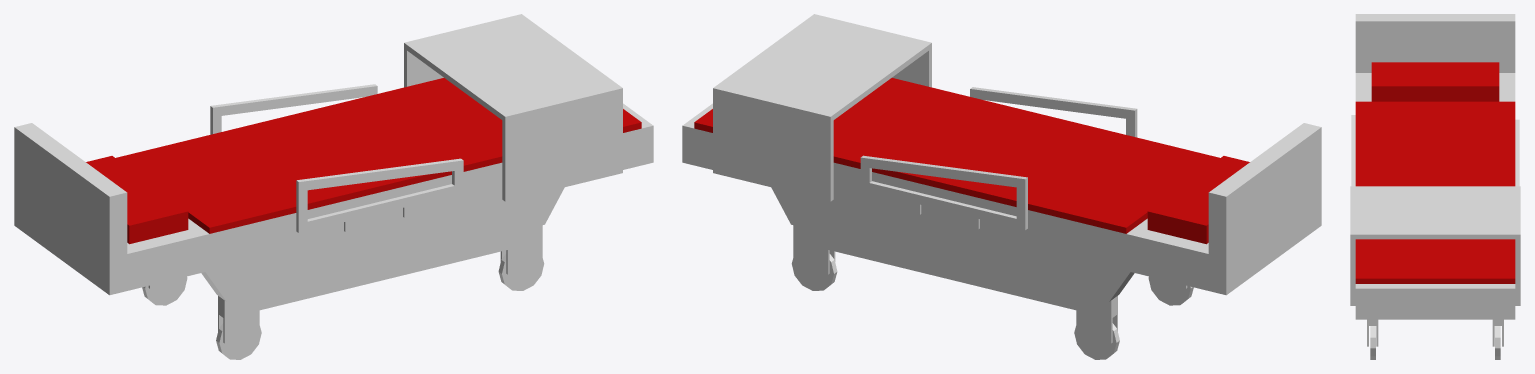
File: camaHospital.fbx
3 renders of one model, left to right at view 1: azimuth 30°, elevation 25°; view 2: azimuth 150°, elevation 25°; view 3: azimuth 270°, elevation 25°, orthographic. The views are drawn at different scales.
Parts seen in each view (by area): view 1: Plane.017, Plane.022, Plane.024, Plane.019, Plane.021, Plane.023, Plane.025, Plane.018, Plane.020; view 2: Plane.017, Plane.022, Plane.024, Plane.019, Plane.021, Plane.023, Plane.025, Plane.018, Plane.020; view 3: Plane.017, Plane.024, Plane.022, Plane.018, Plane.025, Plane.023, Plane.020, Plane.021.
Boxes of the visible parts, x1,y1,x2,y2 form: Plane.017: (116,78,641,233); Plane.022: (404,14,622,201); Plane.024: (14,123,653,295); Plane.019: (201,187,564,301); Plane.021: (148,225,542,343); Plane.023: (210,84,463,232); Plane.025: (127,103,653,272); Plane.018: (86,156,188,244); Plane.020: (142,254,544,359); Plane.017: (694,78,1219,233); Plane.022: (713,14,931,201); Plane.024: (682,123,1321,295); Plane.019: (771,187,1134,301); Plane.021: (793,225,1187,343); Plane.023: (860,87,1137,230); Plane.025: (682,103,1208,272); Plane.018: (1147,156,1249,244); Plane.020: (791,254,1193,359); Plane.017: (1355,101,1515,283); Plane.024: (1355,14,1515,319); Plane.022: (1350,186,1520,305); Plane.018: (1371,62,1499,101); Plane.025: (1355,73,1515,304); Plane.023: (1351,115,1519,186); Plane.020: (1370,326,1500,359); Plane.021: (1367,319,1503,346).
Size of the model in its own units: 924 by 331 by 298.
